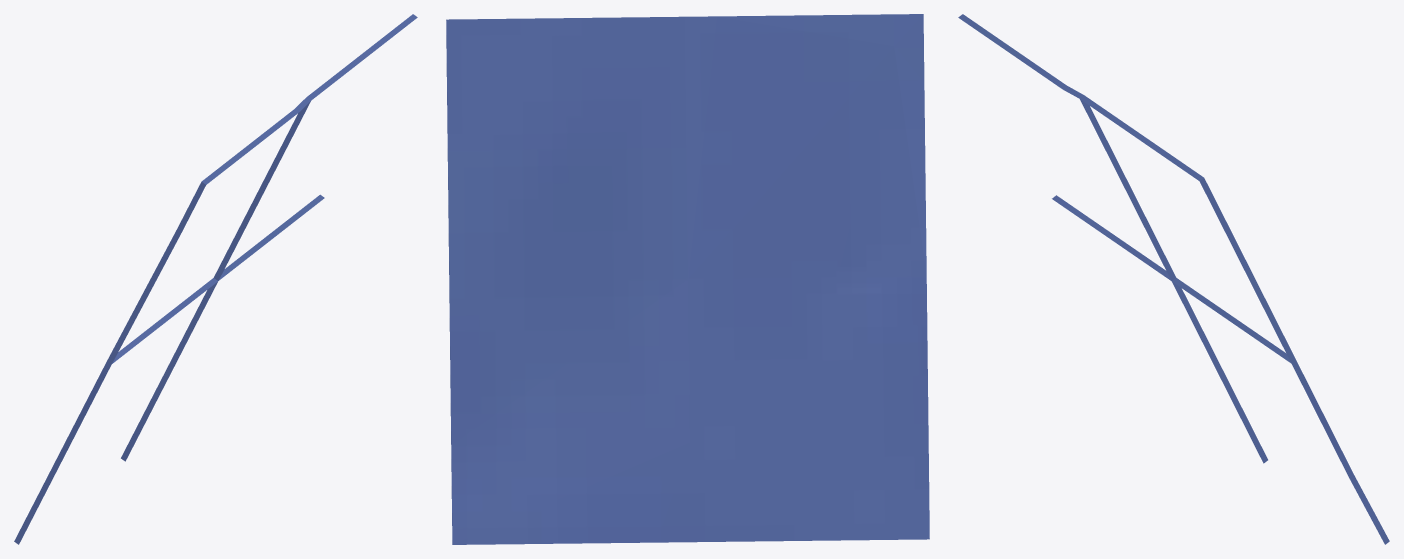
3 views of the same model, side by side, from view 1: azimuth 30°, elevation 25°; view 2: azimuth 150°, elevation 25°; view 3: azimuth 270°, elevation 25° (orthographic). The views are drawn at different scales.
Bounding box in the file's own units: 4898 × 4431 × 4177.
Materials: 1 (1 with a texture image).
